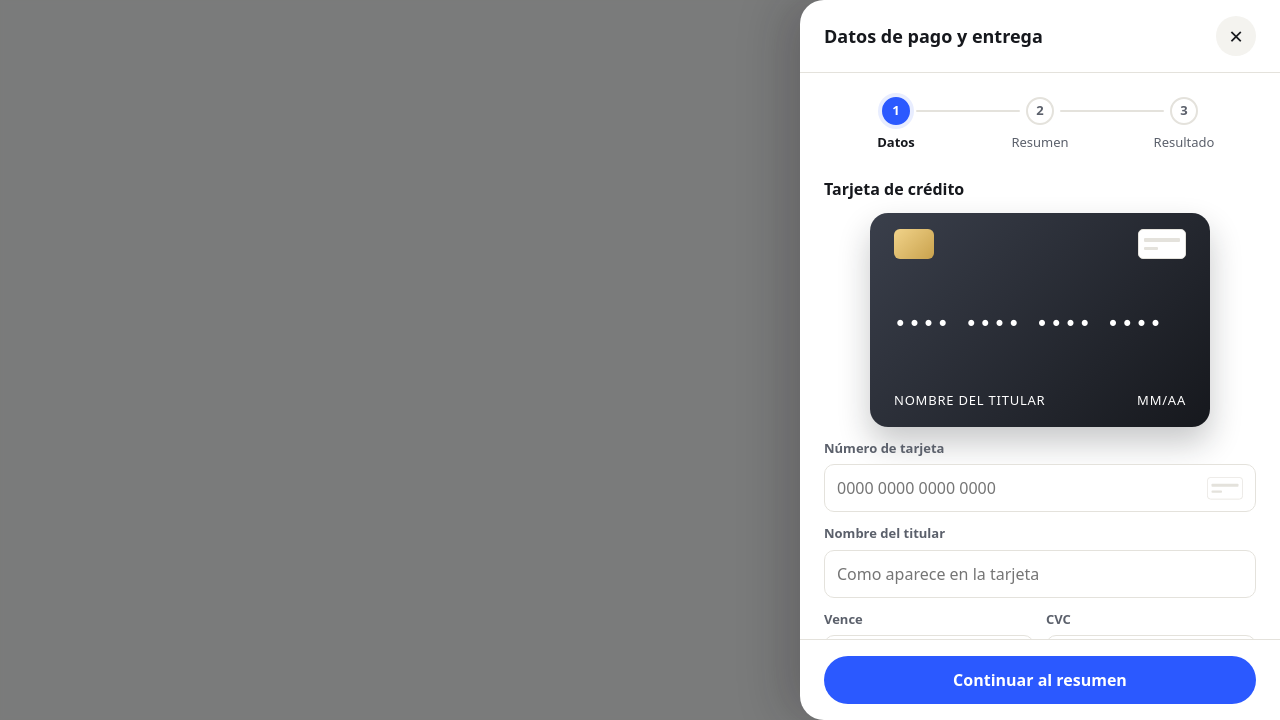
Scenario: CheckoutModal › shows errors only after leaving a field
The width and height of the screenshot is (1280, 720).
Type "4242" into the field labelled "Número de tarjeta" at x=1016, y=488, box [825,465,1207,511]
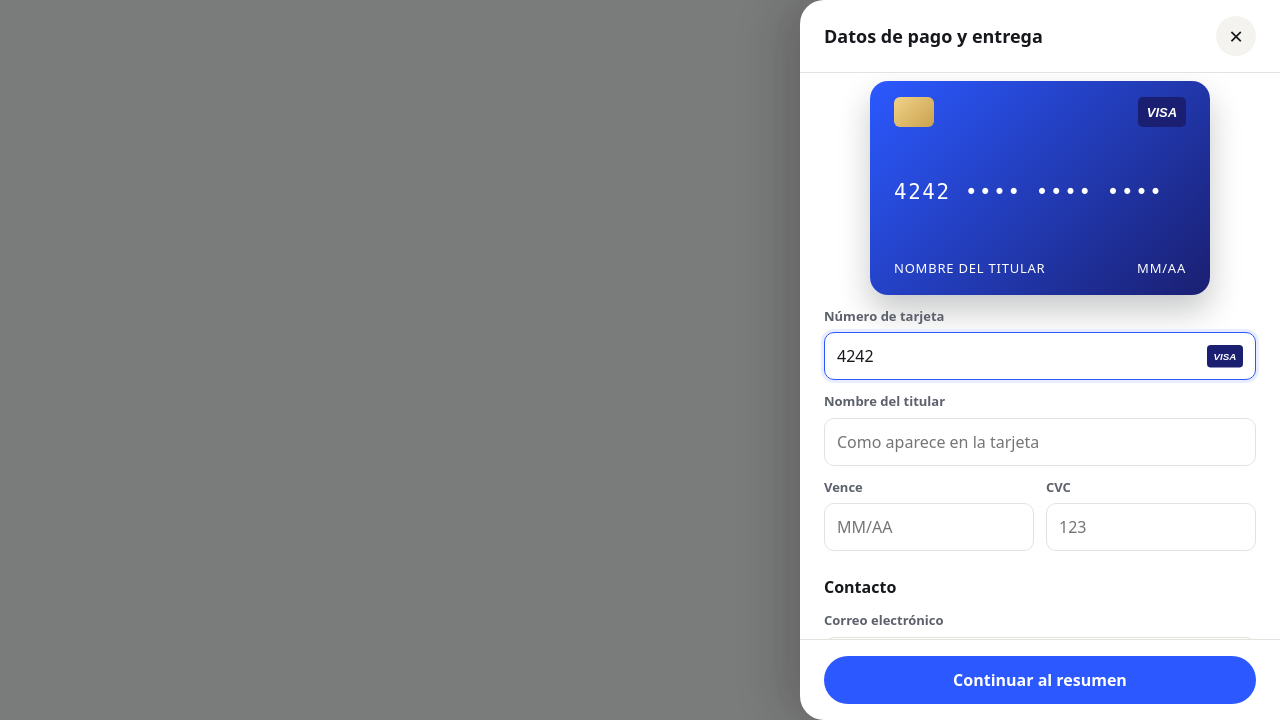
Expected: the text "Número de tarjeta inválido" is not shown
Press Tab
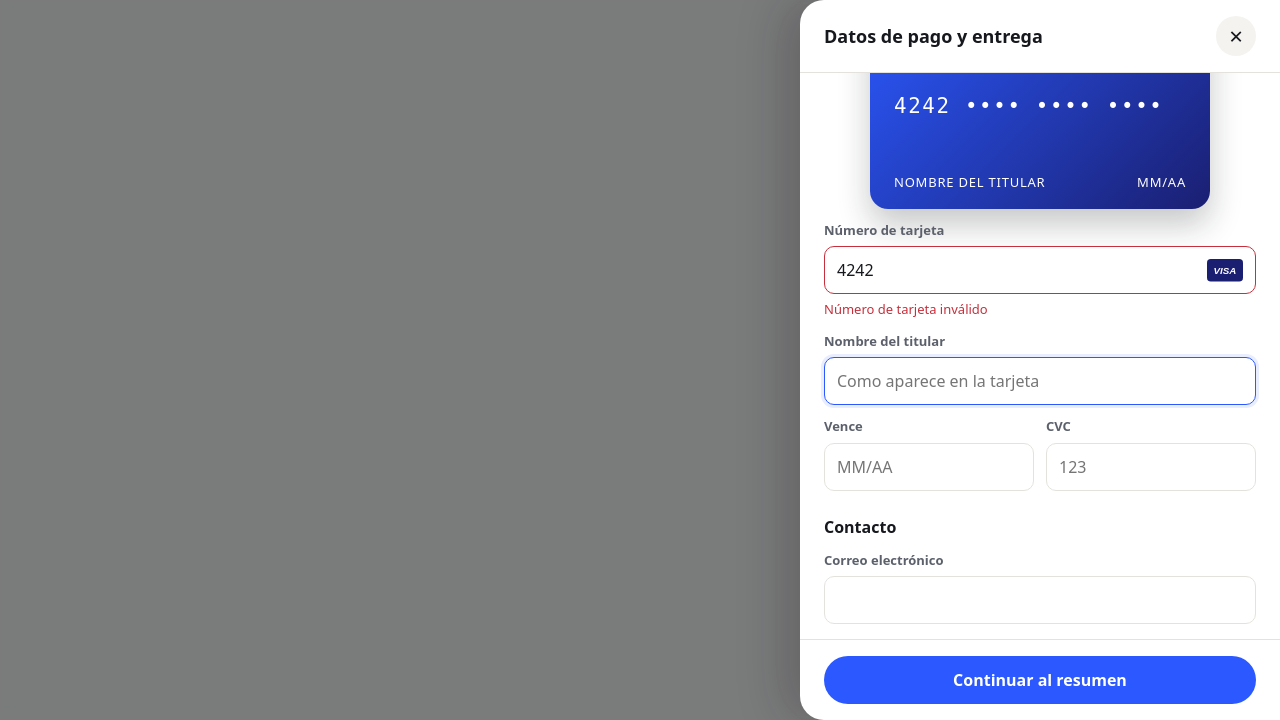
Expected: the text "Número de tarjeta inválido" is shown, [824,300,988,318]
